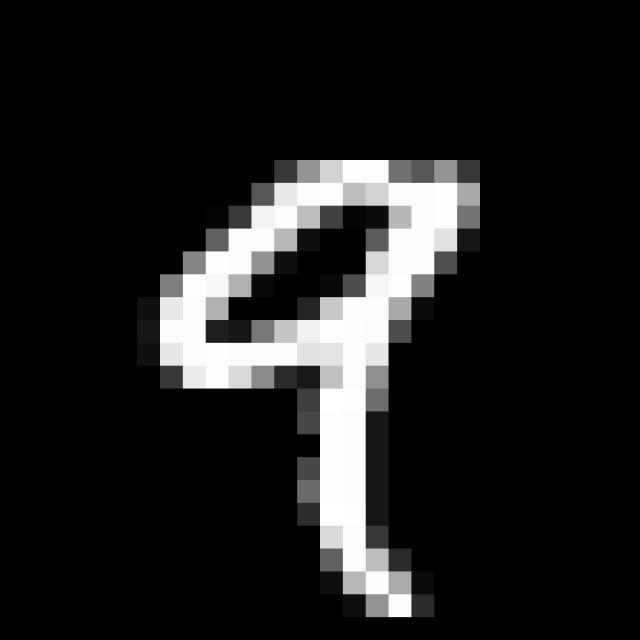nine -9-: (153, 160, 478, 624)
